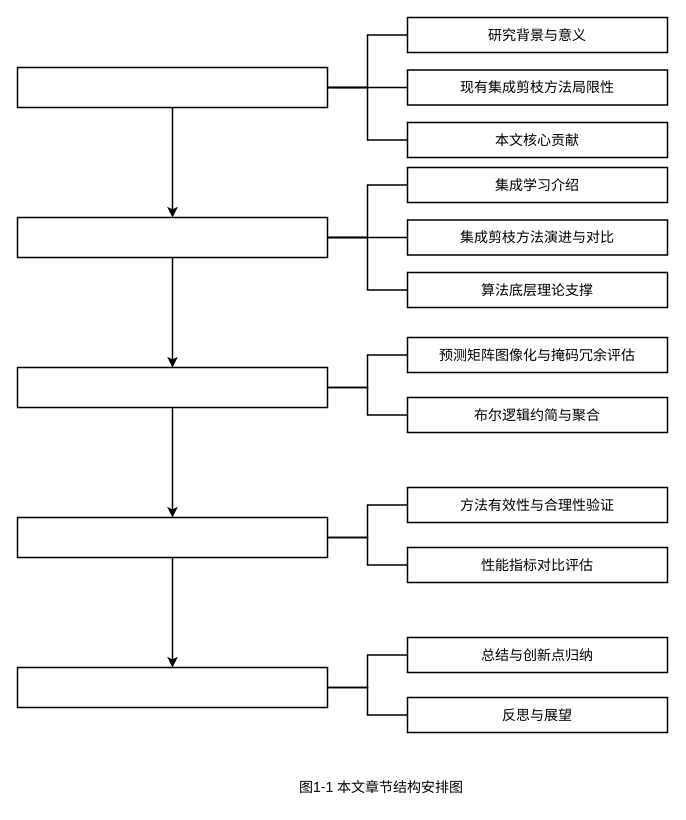
This 686x820 diagram has some shape labels left out. The box of each missing label's shape, as (x1, y1, x2, y2) in pixels:
第1章 绪论: (16, 66, 328, 108)
第2章 背景知识: (16, 216, 328, 258)
第3章 基于扩散模型的两阶段集成约简方法设计: (16, 366, 328, 408)
第4章 实验设计与结果分析: (16, 516, 328, 558)
第5章 总结与展望: (16, 666, 328, 708)
